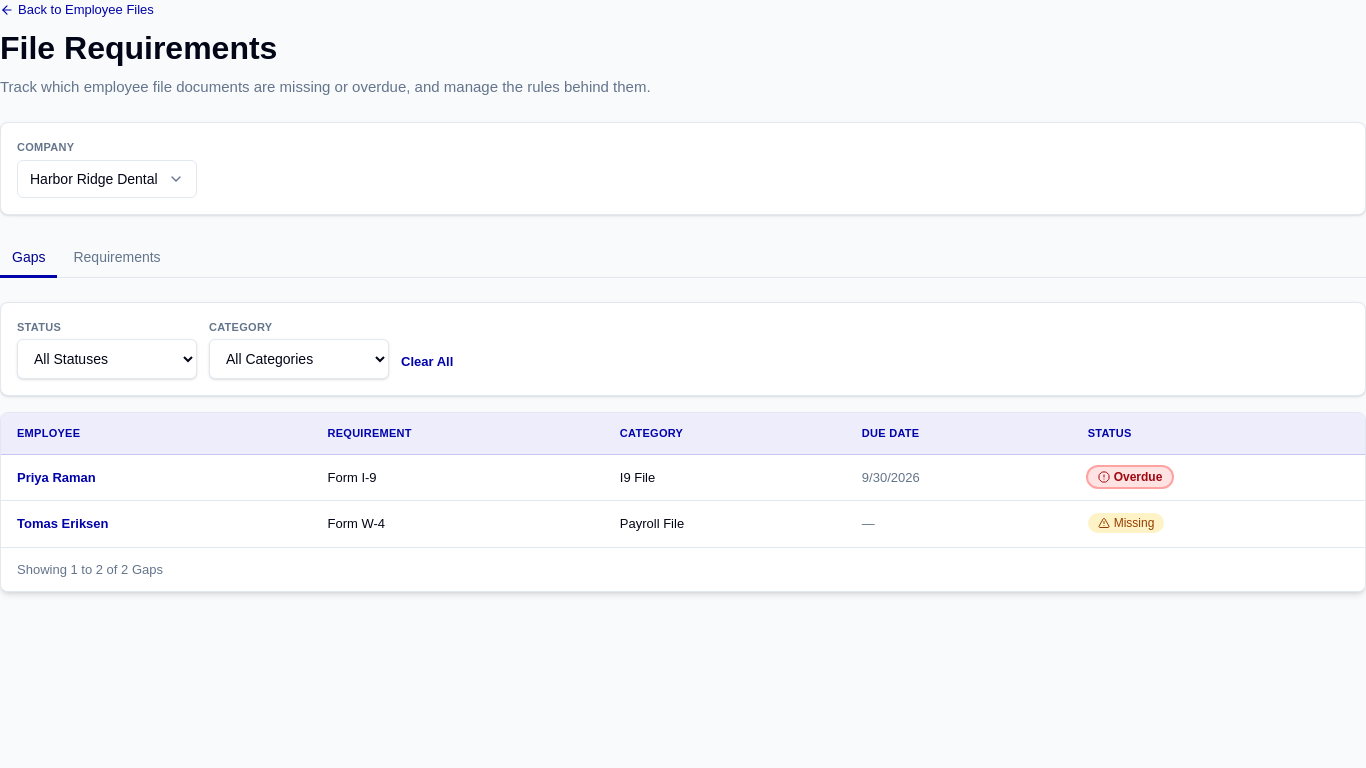
Scenario: MhdEmployeeFileRequirementsPage requirements › requires a company form when satisfied by a form submission
The width and height of the screenshot is (1366, 768).
Click the tab "Requirements" at (117, 258), box [62,239,173,278]
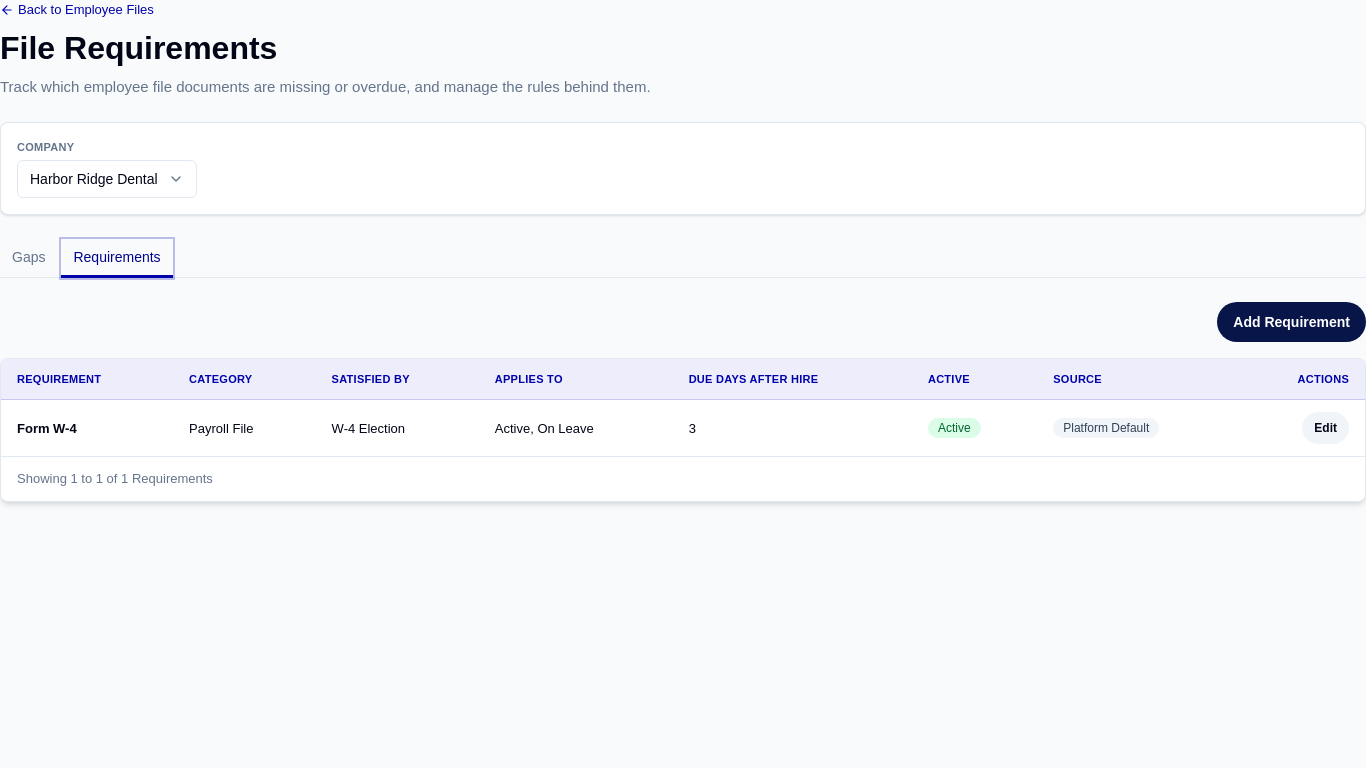
Click the button "Add Requirement" at (1292, 322), box [1217,302,1365,342]
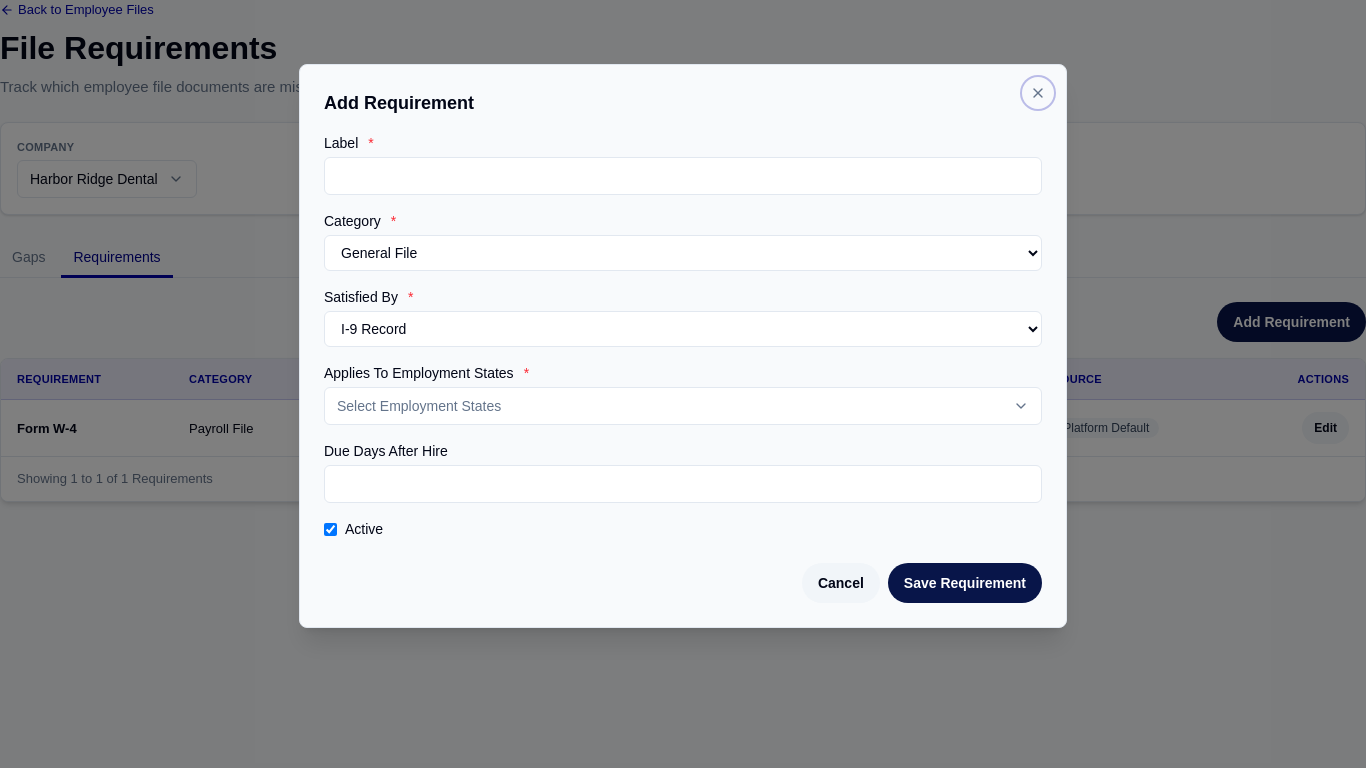
Select "Form Submission" in the dropdown labelled "Satisfied By *" at (683, 329), box [324,311,1042,347]
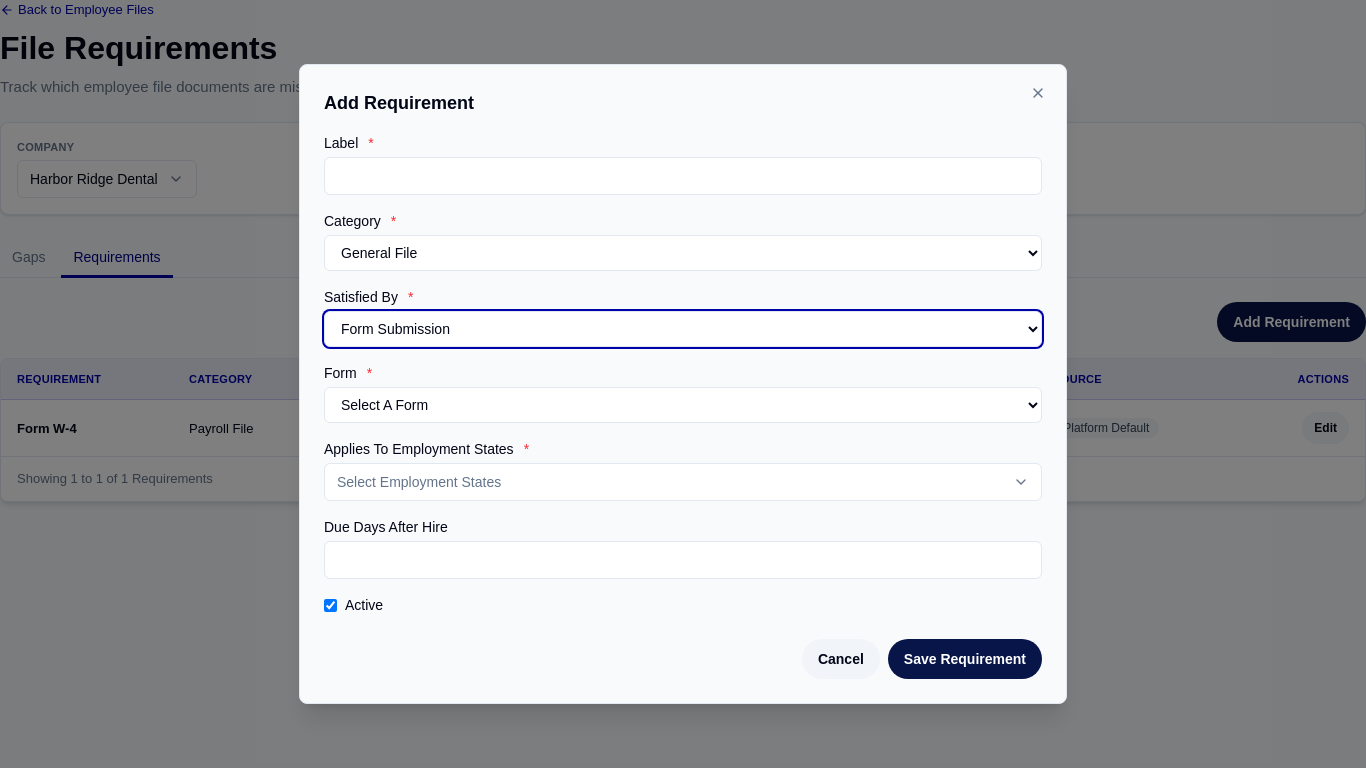
Click the button "Save Requirement" at (965, 659), box [888,639,1042,679]
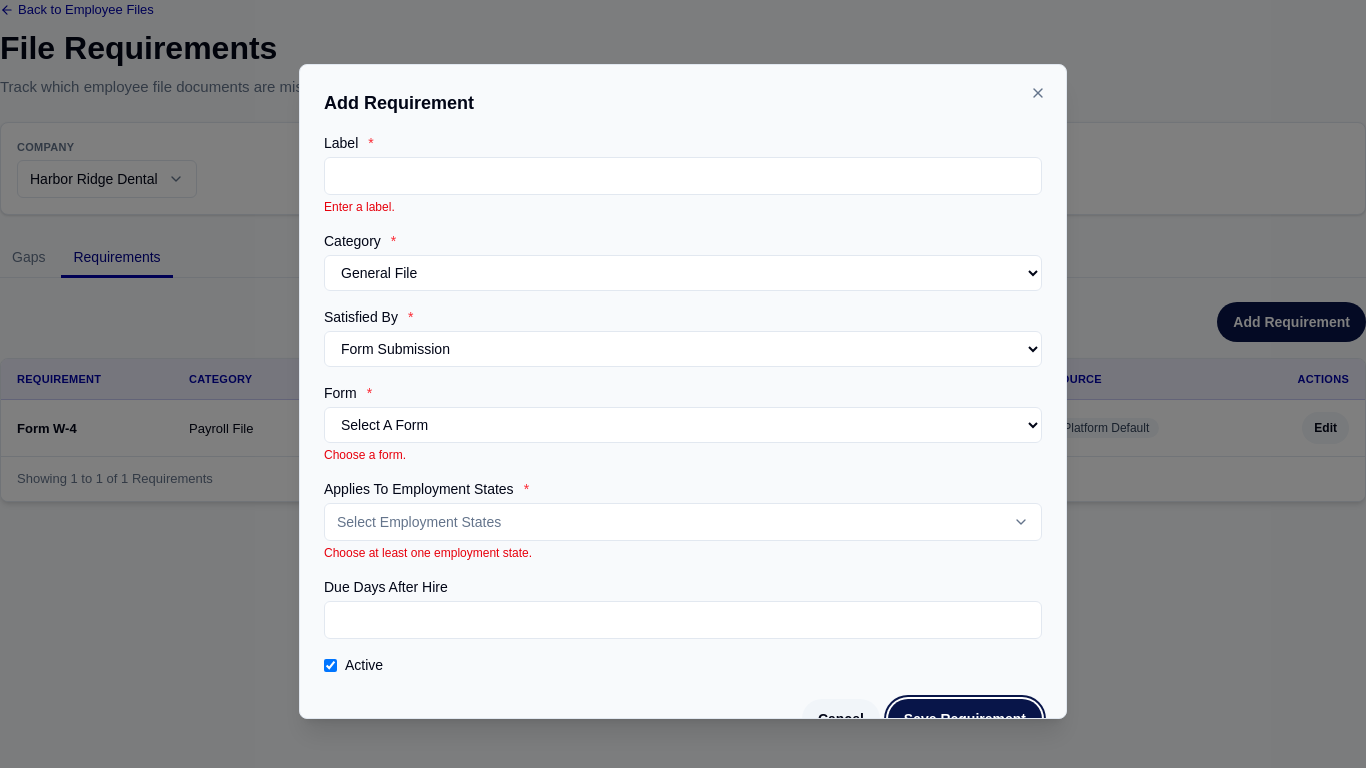
Expected: the text "Choose a form." is shown, [324,448,406,462]
